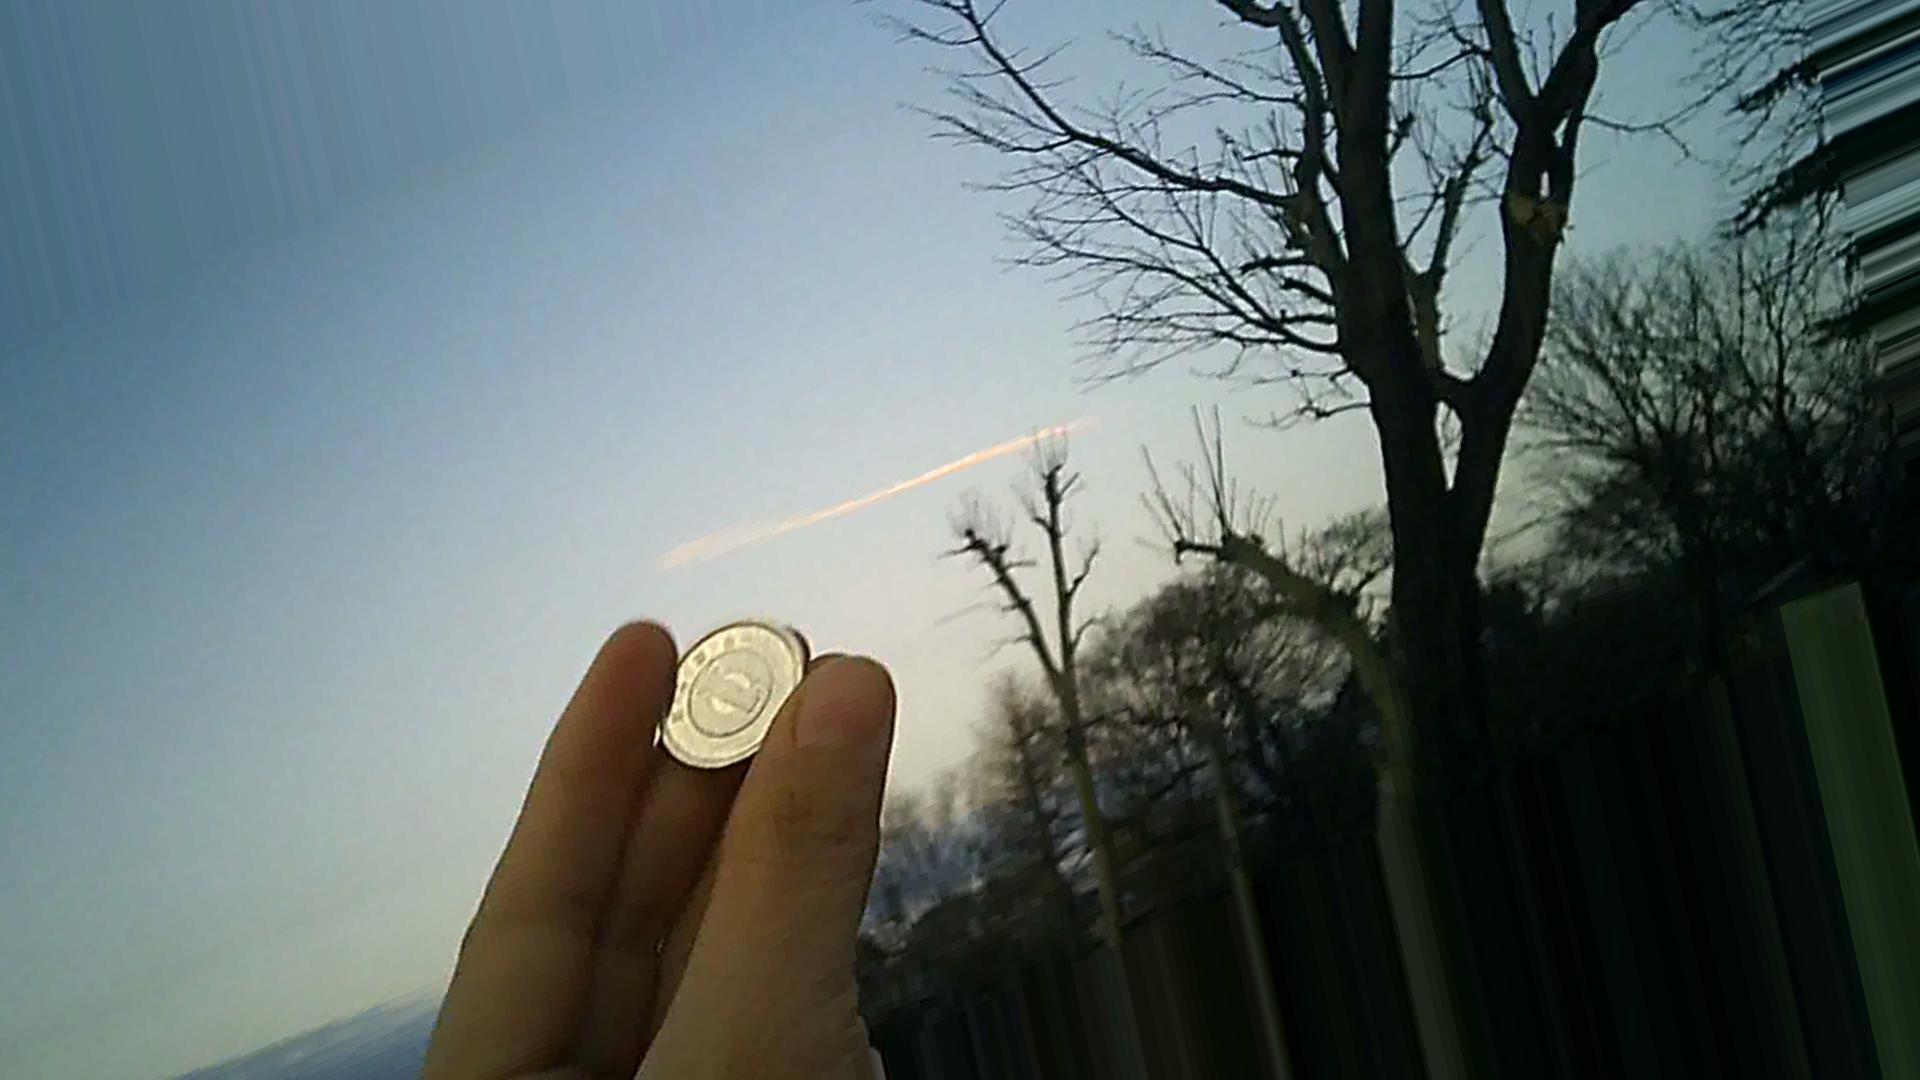1 Yen: (642, 611, 818, 775)
